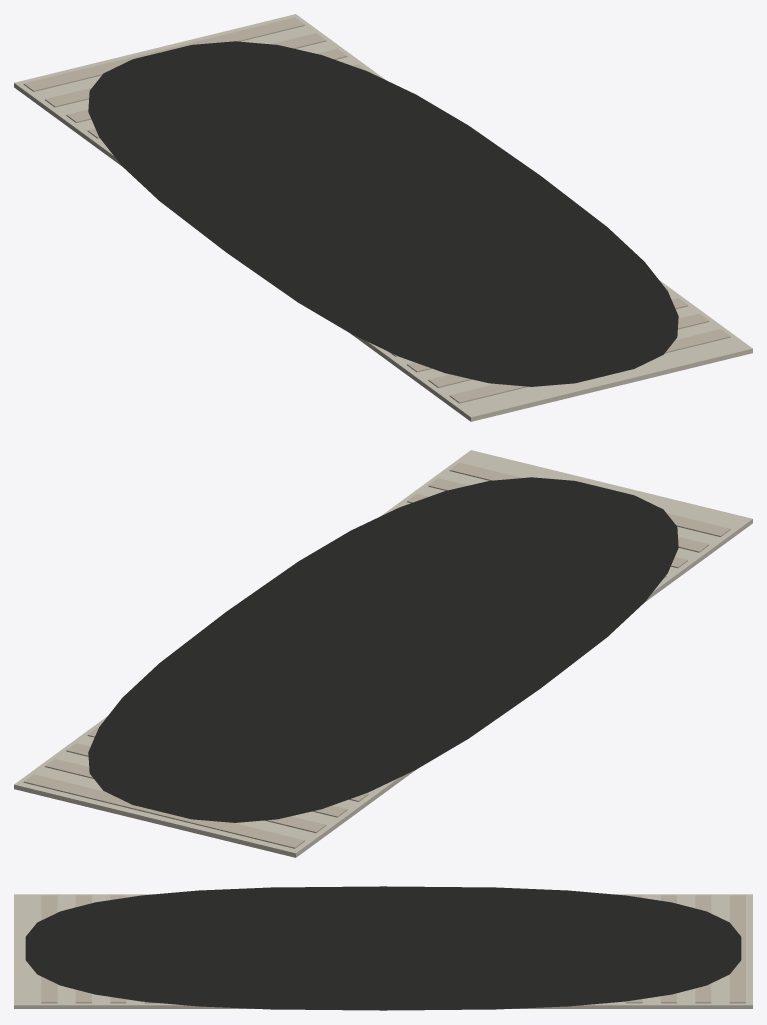
3 views of the same model, one above another, from view 1: azimuth 30°, elevation 25°; view 2: azimuth 150°, elevation 25°; view 3: azimuth 270°, elevation 25° (orthographic). The views are drawn at different scales.
Parts seen in each view (by area): view 1: root; view 2: root; view 3: root.
Boxes of the visible parts, x1,y1,x2,y2 form: root: (14,14,752,421); root: (14,450,752,857); root: (14,886,752,1010).
Size of the model in its own units: 0.8839 by 0.0208 by 2.23.
